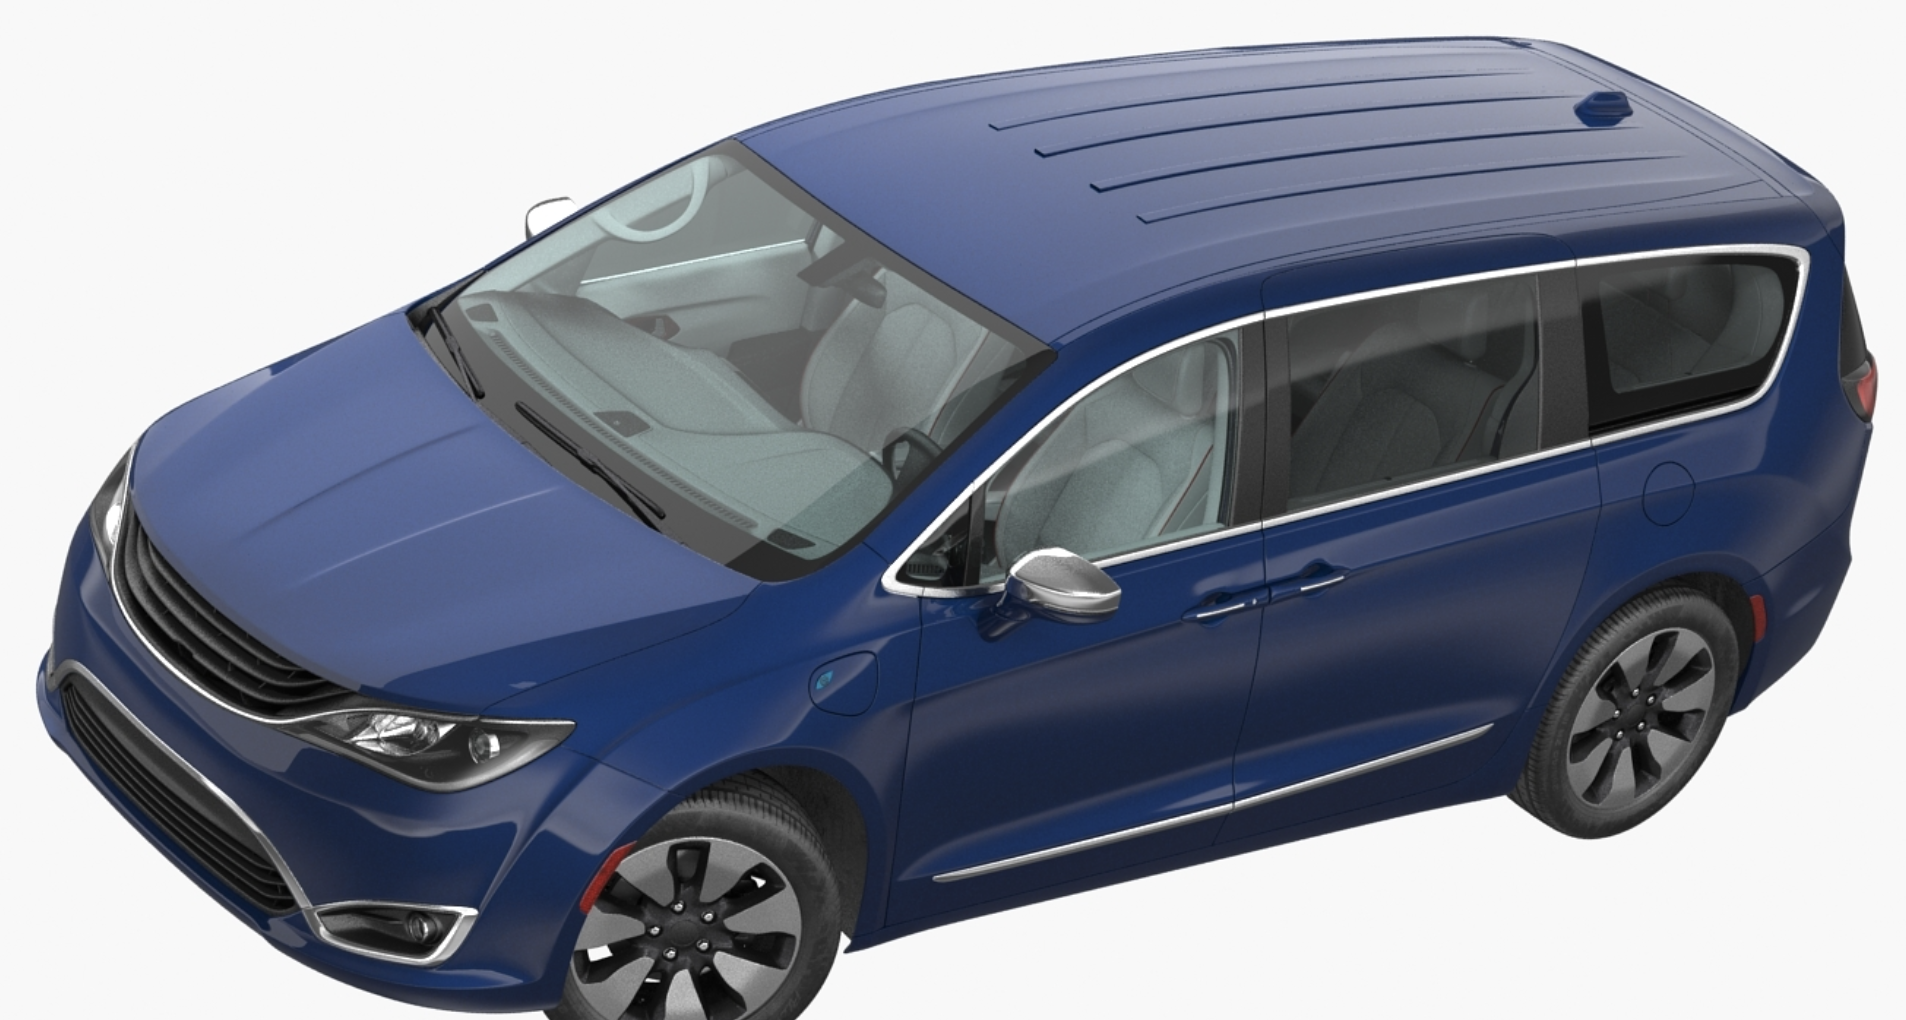hatch: (800, 646, 887, 725), (1632, 455, 1706, 535)
